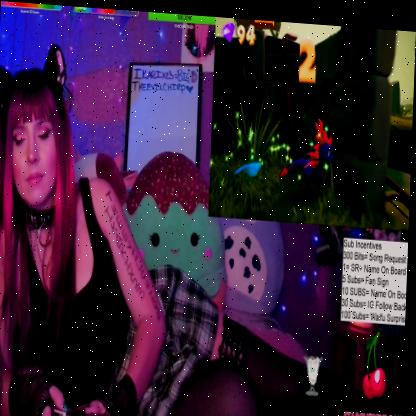streamer: (0, 37, 415, 416)
